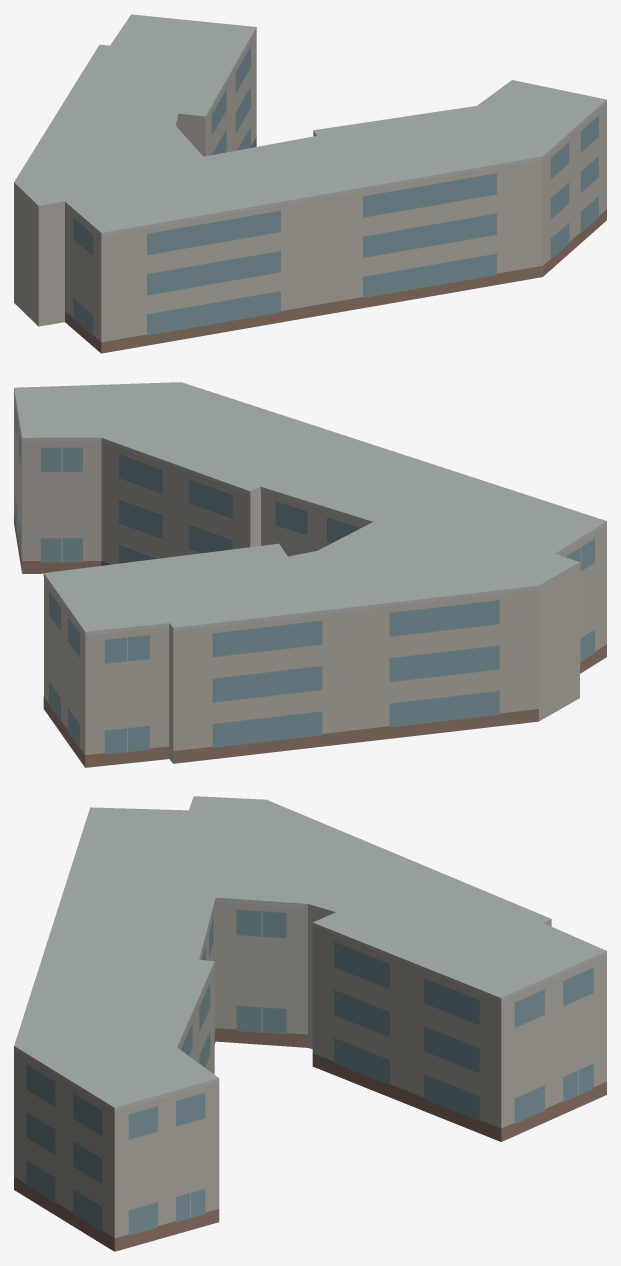
Rendered from survey-upis-32932904.glb.
3 renders of one model, top to bottom at view 1: azimuth 30°, elevation 25°; view 2: azimuth 150°, elevation 25°; view 3: azimuth 270°, elevation 25°, orthographic. The views are drawn at different scales.
Visible parts, largest first — view 1: survey-upis-32932904.tmp; view 2: survey-upis-32932904.tmp; view 3: survey-upis-32932904.tmp.
Part boxes in pixels (bbox=[...]): survey-upis-32932904.tmp: bbox=[14, 14, 606, 353]; survey-upis-32932904.tmp: bbox=[14, 382, 606, 767]; survey-upis-32932904.tmp: bbox=[14, 796, 606, 1251].
Size of the model in its own units: 42.48 by 9.15 by 34.15.
